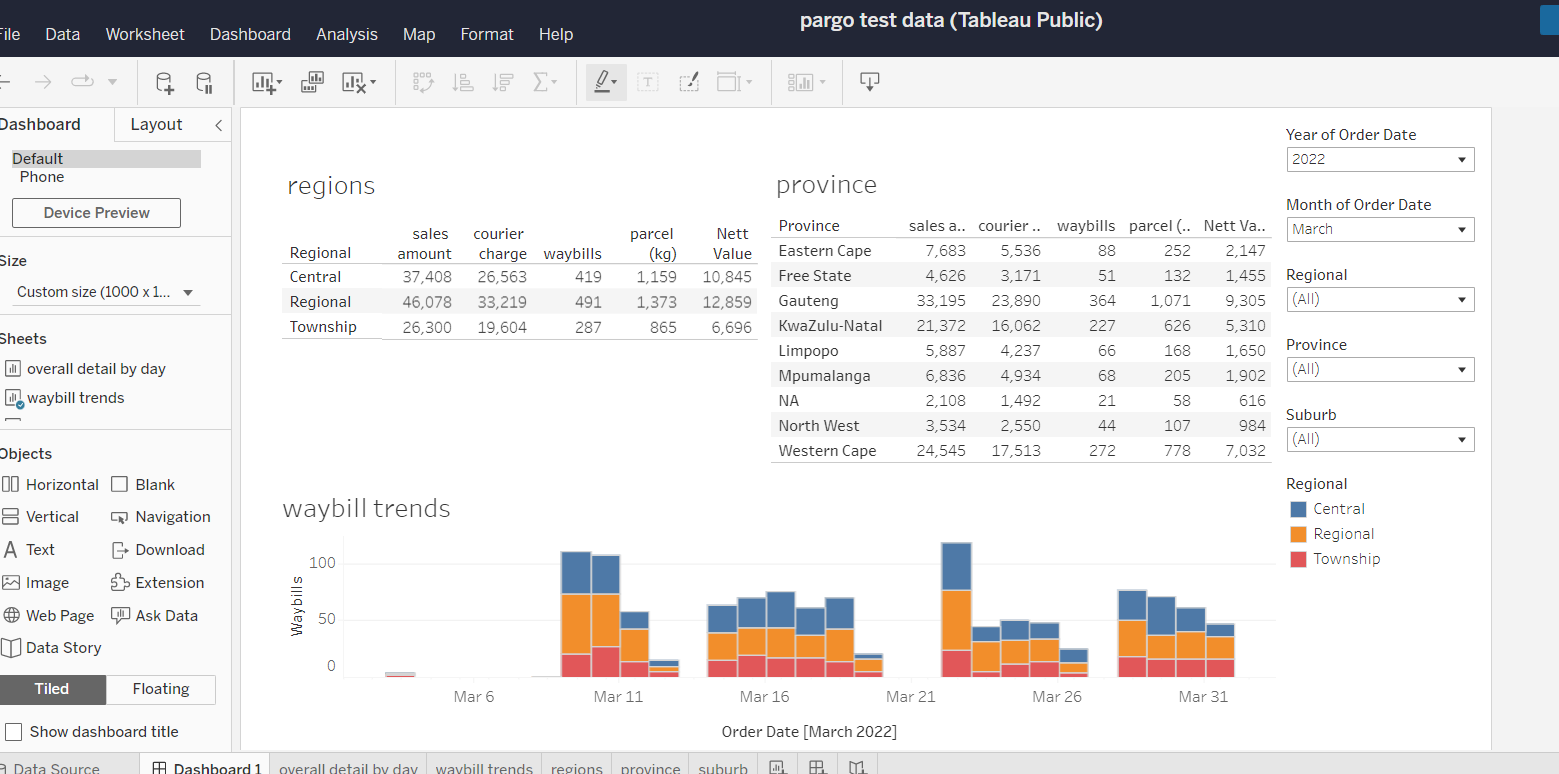

What the dashboard file says about the page in this screenshot:
{"tool":"tableau","page":{"name":"Dashboard 1","canvas":[1000,1000],"ordinal":0},"visuals":[{"type":"filter","title":"waybill trends","param":"[federated.10hpe0z18qoyam11dypg4078u8z4].[yr:Order Date:ok]","box":[832,8,160,56]},{"type":"worksheet","title":"province","mark":"Automatic","rows":["Province"],"box":[424,40,452,260]},{"type":"worksheet","title":"regions","mark":"Automatic","rows":["Regional"],"box":[33,41.2,413,211.2]},{"type":"filter","title":"waybill trends","param":"[federated.10hpe0z18qoyam11dypg4078u8z4].[mn:Order Date:ok]","box":[832,64,160,56]},{"type":"filter","title":"waybill trends","param":"[federated.10hpe0z18qoyam11dypg4078u8z4].[none:Regional:nk]","box":[832,120,160,56]},{"type":"filter","title":"waybill trends","param":"[federated.10hpe0z18qoyam11dypg4078u8z4].[none:Province:nk]","box":[832,176,160,56]},{"type":"filter","title":"waybill trends","param":"[federated.10hpe0z18qoyam11dypg4078u8z4].[none:Suburb:nk]","box":[832,232,160,56]},{"type":"legend","title":"waybill trends","param":"[federated.10hpe0z18qoyam11dypg4078u8z4].[none:Regional:nk]","box":[832,288,160,87]},{"type":"worksheet","title":"waybill trends","mark":"Bar","rows":["Waybill"],"cols":["Order Date"],"box":[29,299,799,213]}]}

Visuals, with their boxes on the page's 1000x1000 design canvas (x1, y1, x2, y2). These are canvas units, not pixel positions in the 1559x774 screenshot, which may show the page scaled, cropped or inside an application window:
"waybill trends" filter: locate(832, 8, 992, 64)
"province" worksheet: locate(424, 40, 876, 300)
"regions" worksheet: locate(33, 41, 446, 252)
"waybill trends" filter: locate(832, 64, 992, 120)
"waybill trends" filter: locate(832, 120, 992, 176)
"waybill trends" filter: locate(832, 176, 992, 232)
"waybill trends" filter: locate(832, 232, 992, 288)
"waybill trends" legend: locate(832, 288, 992, 375)
"waybill trends" worksheet (Bar marks): locate(29, 299, 828, 512)
